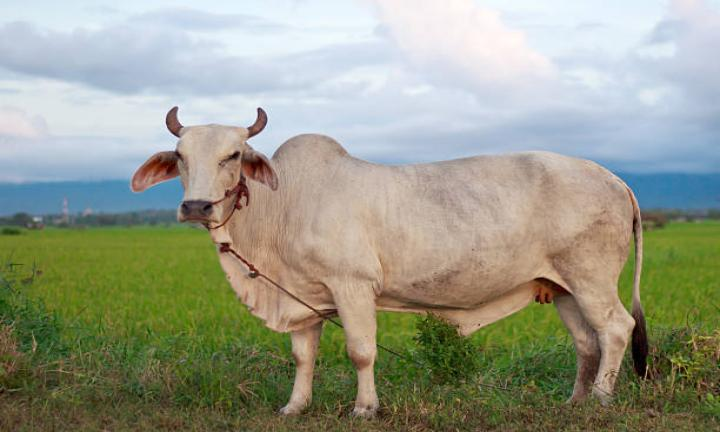Brahman: (132, 108, 646, 415)
